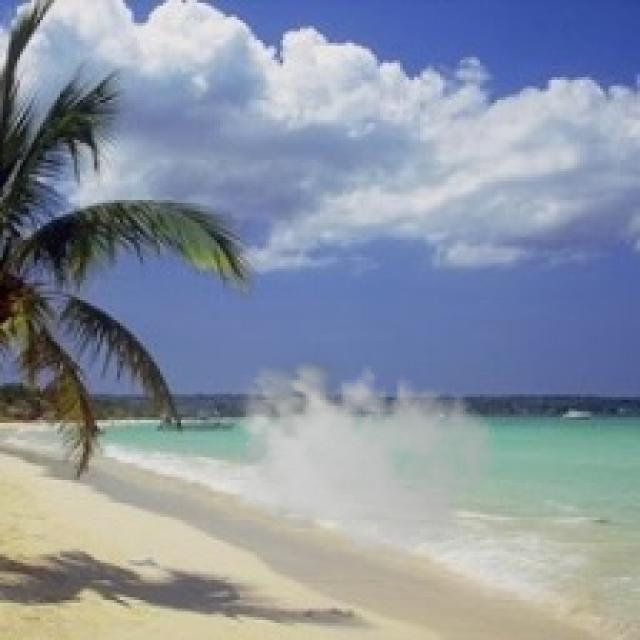Smoke: (222, 351, 498, 563)
